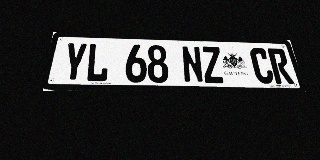6: (125, 44, 147, 83)
8: (147, 45, 169, 83)
C: (249, 48, 275, 84)
L: (85, 43, 110, 82)
N: (181, 46, 204, 83)
R: (267, 48, 294, 84)
Y: (61, 42, 88, 82)
Z: (200, 46, 225, 83)
